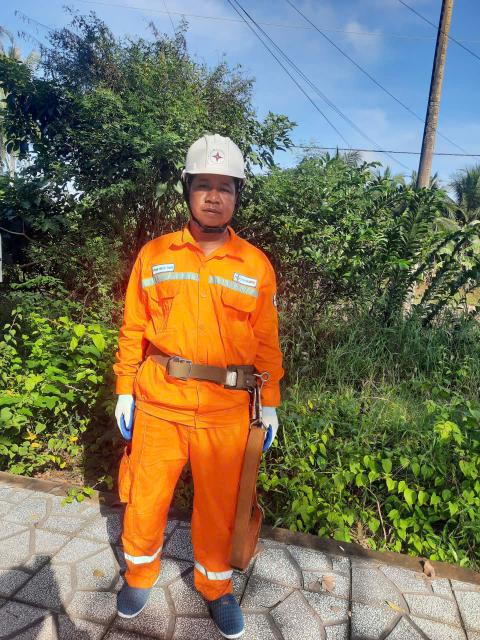gloves: (98, 389, 134, 454), (245, 393, 281, 454)
harness: (136, 332, 262, 400)
helmet: (171, 119, 255, 184)
shoes: (197, 572, 250, 640), (103, 566, 151, 624)
